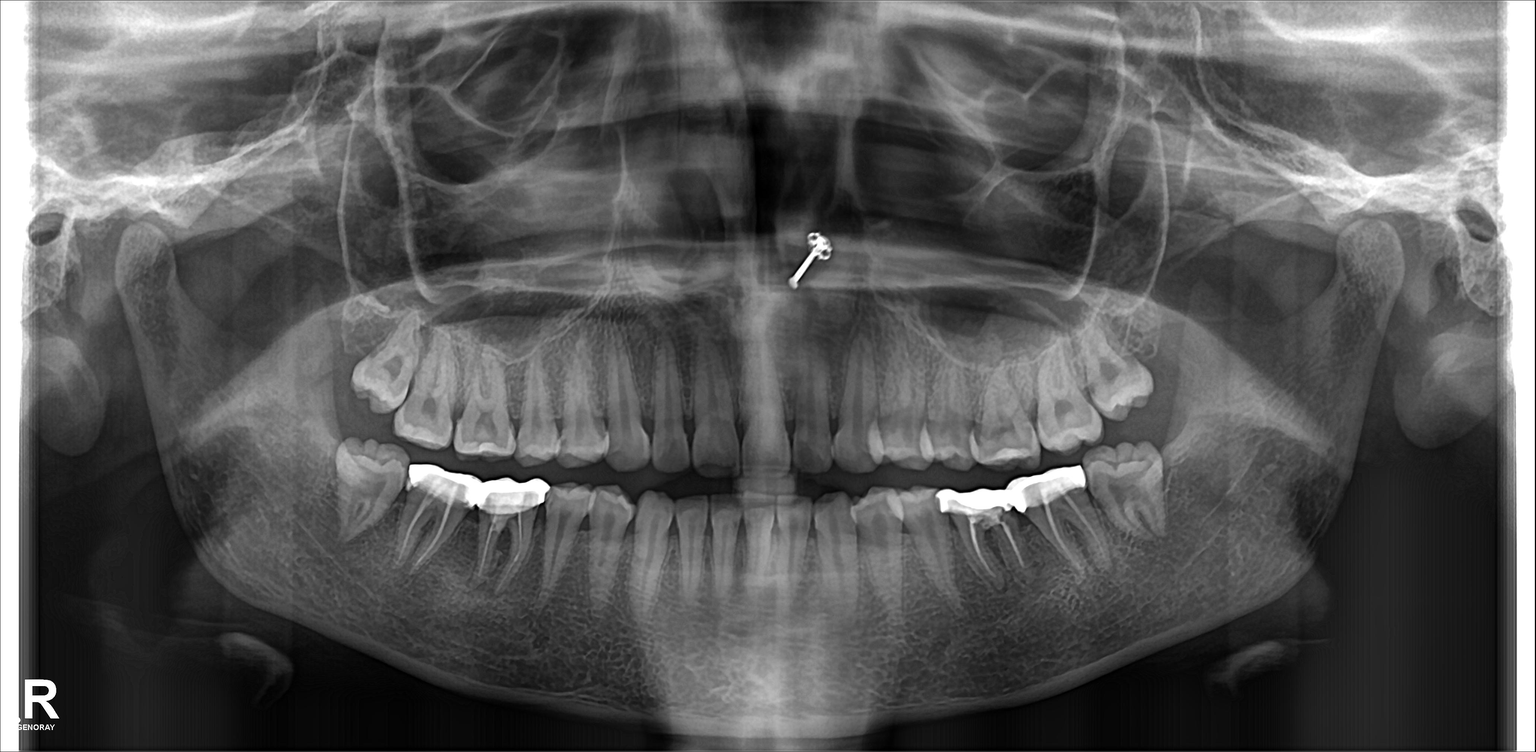Endodontically Treated Tooth: (1026, 478, 1097, 573), (406, 462, 460, 569), (968, 491, 1021, 579), (484, 475, 541, 556)
Missing Tooth: (318, 315, 364, 401), (1138, 311, 1184, 393)
